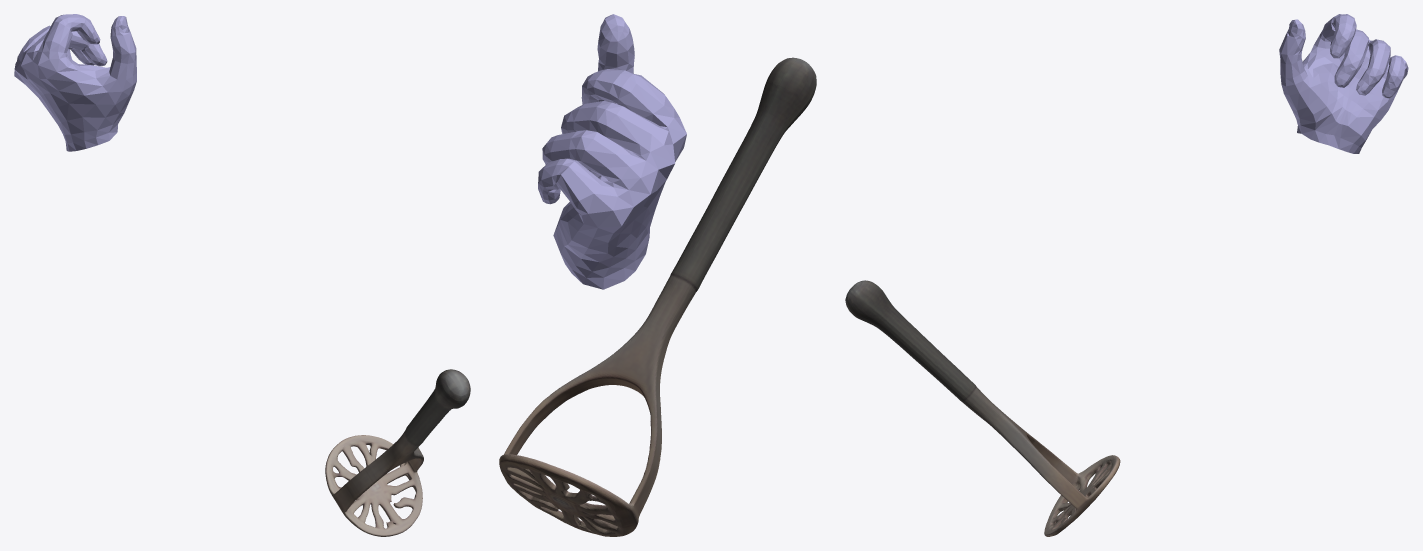
Rendered from frame_0094_source_000094_hand_object.glb.
The picture shows the model from 3 angles, left to right: view 1: azimuth 30°, elevation 25°; view 2: azimuth 150°, elevation 25°; view 3: azimuth 270°, elevation 25°; orthographic projection. The views are drawn at different scales.
Parts seen in each view (by area): view 1: world; view 2: world; view 3: world.
Boxes of the visible parts, <box> form: world: <box>14,14,470,536</box>; world: <box>499,14,816,536</box>; world: <box>845,14,1408,536</box>.
Size of the model in its own units: 0.2236 by 0.3892 by 0.4456.
